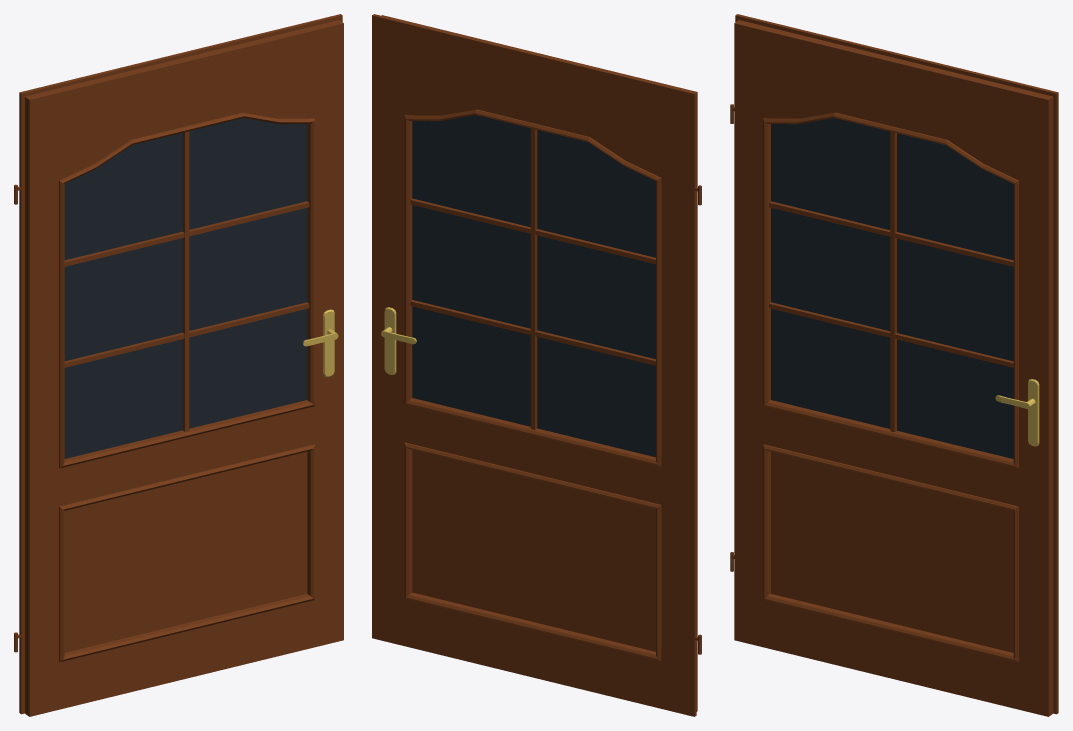
File: duur.fbx
The picture shows the model from 3 angles, left to right: view 1: azimuth 30°, elevation 25°; view 2: azimuth 150°, elevation 25°; view 3: azimuth 330°, elevation 25°; orthographic projection.
Parts seen in each view (by area): view 1: Door; view 2: Door; view 3: Door.
Part boxes in pixels (x1=…): Door: x1=14, y1=14, x2=343, y2=716; Door: x1=372, y1=14, x2=701, y2=716; Door: x1=730, y1=14, x2=1058, y2=716.
Size of the model in its own units: 55.22 by 100 by 5.95.
